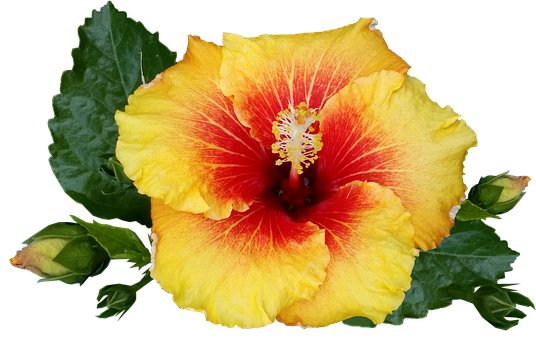Hibiscus: (121, 1, 459, 327), (11, 211, 145, 301), (455, 159, 533, 233)
